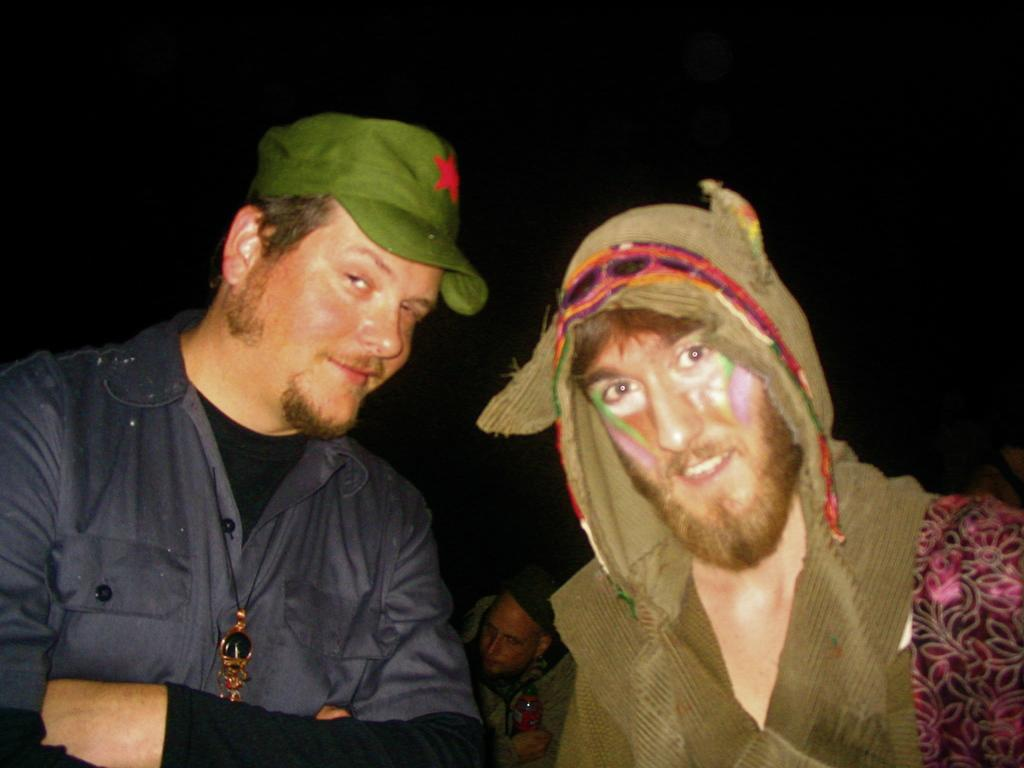Hat: (252, 114, 490, 316)
